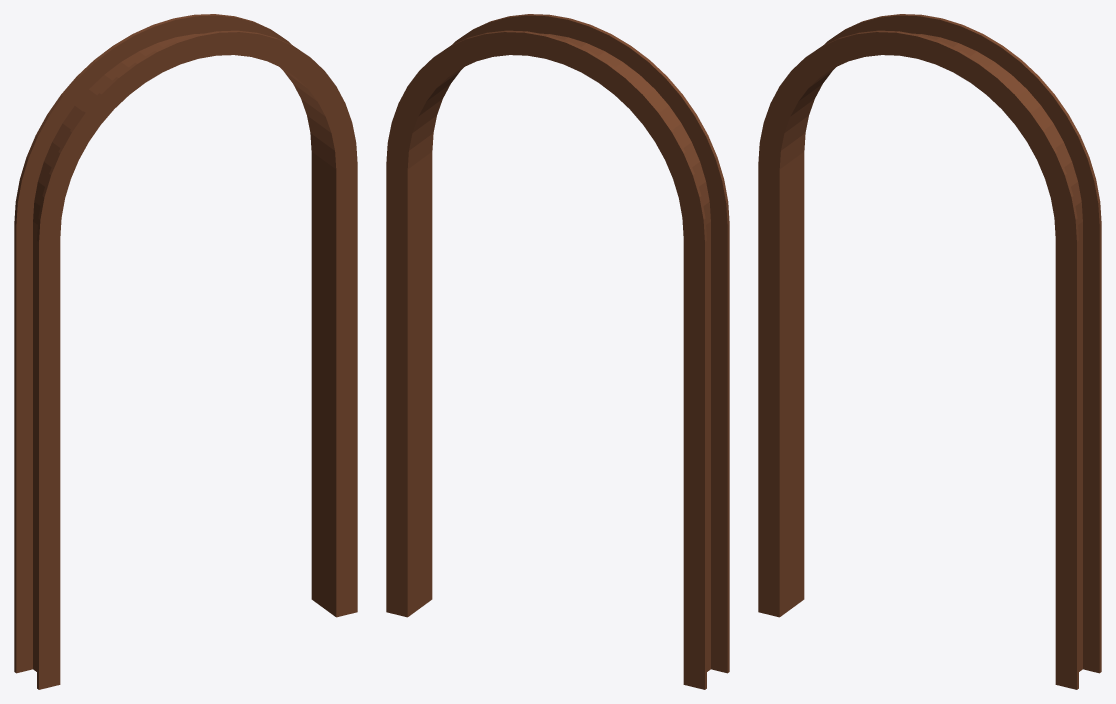
Rendered from batente_arco_madeira.glb.
3 views of the same model, side by side, from view 1: azimuth 30°, elevation 25°; view 2: azimuth 150°, elevation 25°; view 3: azimuth 330°, elevation 25° (orthographic).
Parts seen in each view (by area): view 1: batente_arco_madeira; view 2: batente_arco_madeira; view 3: batente_arco_madeira.
Part boxes in pixels (left/top/right/bottom): batente_arco_madeira: left=14, top=14, right=357, bottom=689; batente_arco_madeira: left=386, top=14, right=729, bottom=689; batente_arco_madeira: left=758, top=14, right=1101, bottom=689.
Size of the model in its own units: 1.34 by 2.47 by 0.18.
